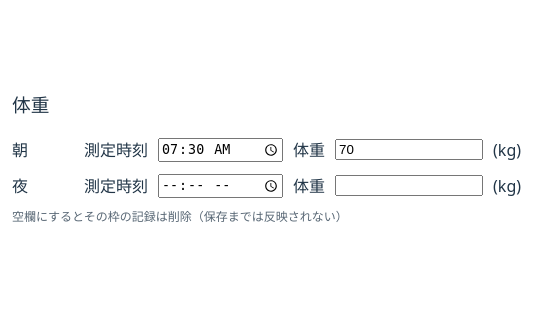
Test: WeightEditor › retains invalid input and error message without mutating record, then recovers on valid blur
Replace the text in the 1st field with "abc" at (409,150), box [335,139,483,160]
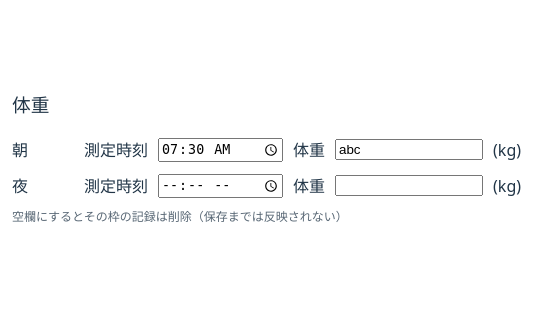
Leave the 1st field, box [335,139,483,160]
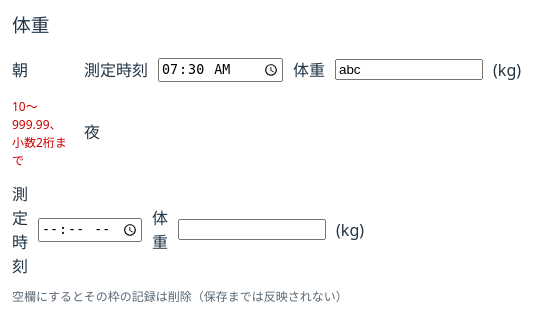
expect the text "10〜999.99、小数2桁まで" is shown: met, box [12,98,72,170]
Replace the text in the 1st field with "69.25" at (409,70), box [335,59,483,80]
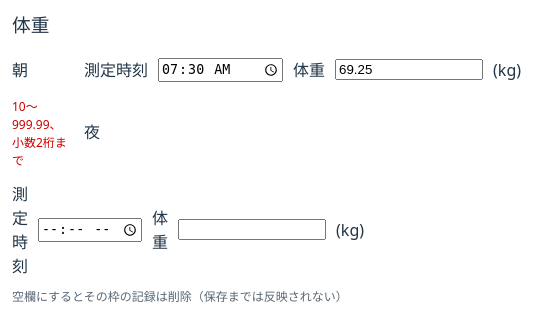
Leave the 1st field, box [335,59,483,80]
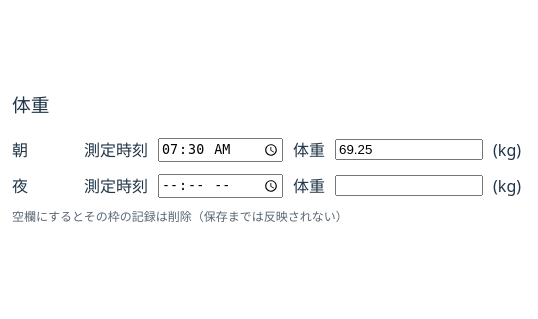
expect the text "10〜999.99、小数2桁まで" is gone: met
